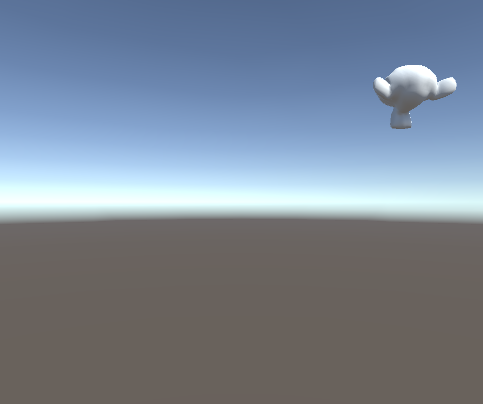monkey: (372, 63, 459, 131)
